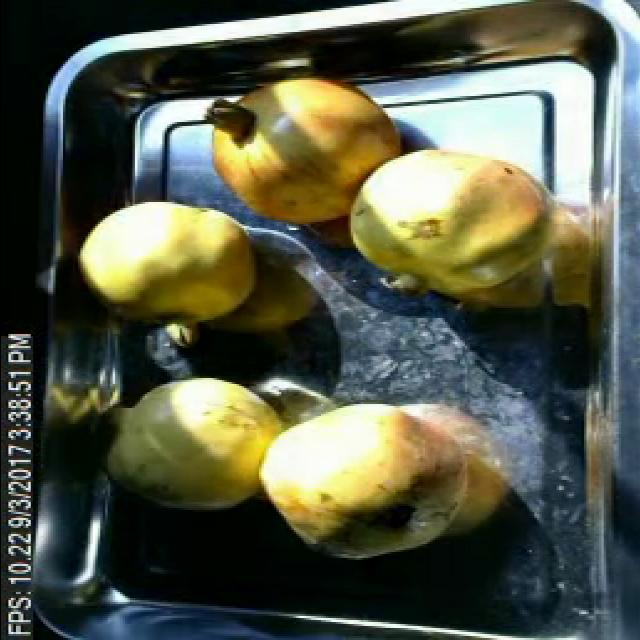fruit: (243, 374, 499, 568), (333, 134, 563, 320), (188, 66, 412, 240), (67, 192, 273, 344), (90, 368, 286, 518)
